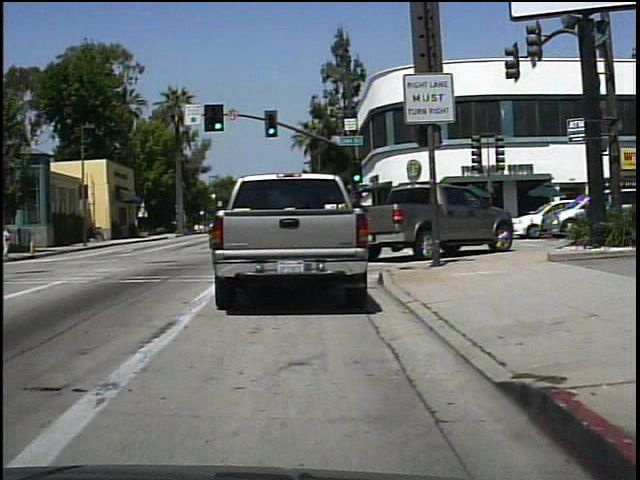person: (468, 200, 485, 239), (2, 225, 16, 261)
